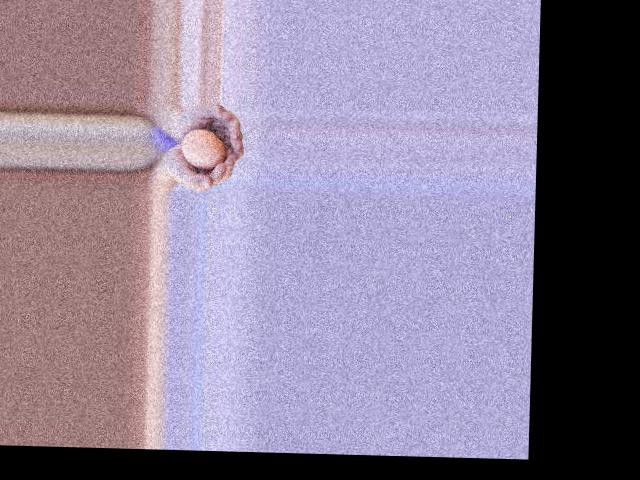egg: (180, 127, 225, 169)
